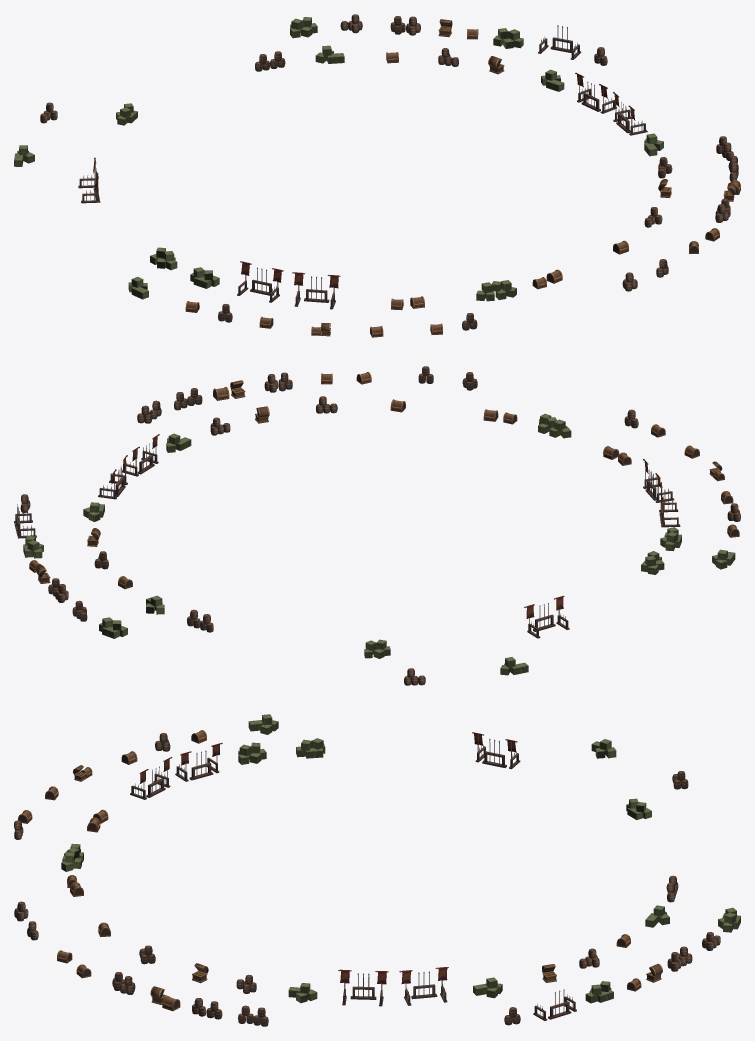
Rendered from wujian64.fbx.
3 renders of one model, top to bottom at view 1: azimuth 30°, elevation 25°; view 2: azimuth 150°, elevation 25°; view 3: azimuth 270°, elevation 25°, orthographic. The views are drawn at different scales.
Visible parts, largest first — view 1: wujian64; view 2: wujian64; view 3: wujian64.
Boxes of the visible parts, x1,y1,x2,y2 form: wujian64: (14, 14, 740, 337); wujian64: (14, 366, 740, 685); wujian64: (14, 714, 740, 1026).
Bounding box in the file's own units: 10096 × 456 × 10326.
Materials: 1 (1 with a texture image).
